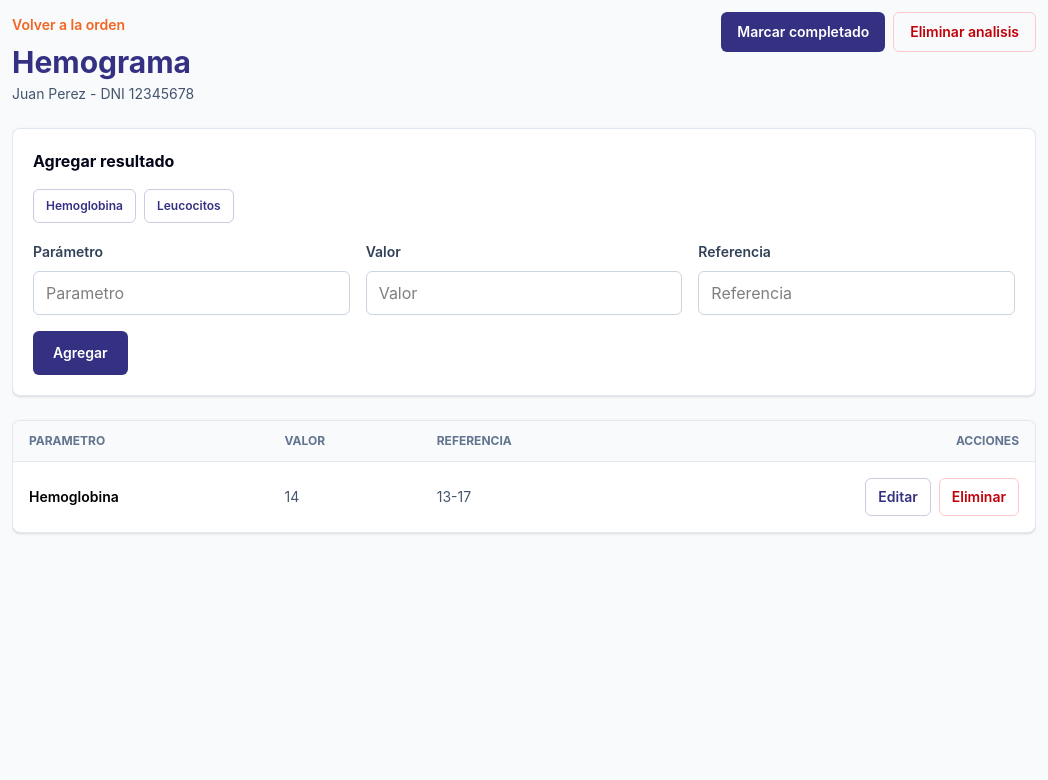
it: AdminAnalysisDetail › cancels editing and resets the form
Expected: the heading "Hemograma" is shown, [12,44,194,80]
Step 1. Click the button "Editar" → (898, 497), box [865,478,931,516]
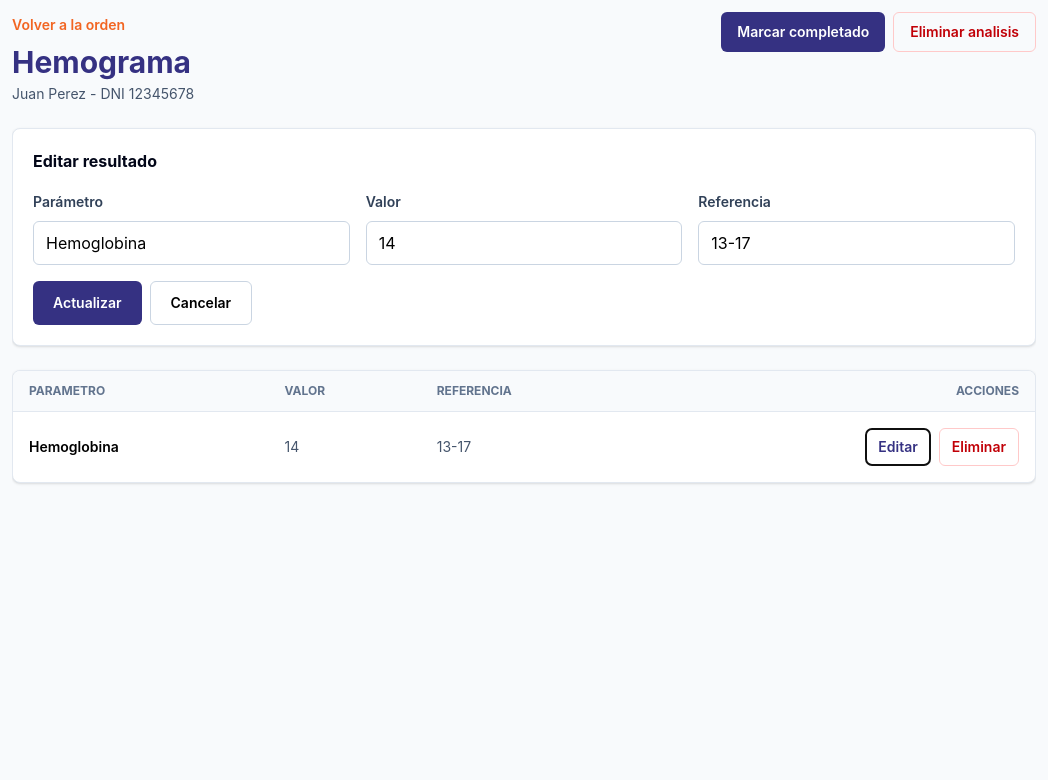
Result: the field with placeholder "Parametro" holds "Hemoglobina" at [33,221,350,265]
Step 2. Click the button "Cancelar" → (201, 303), box [150,281,252,325]
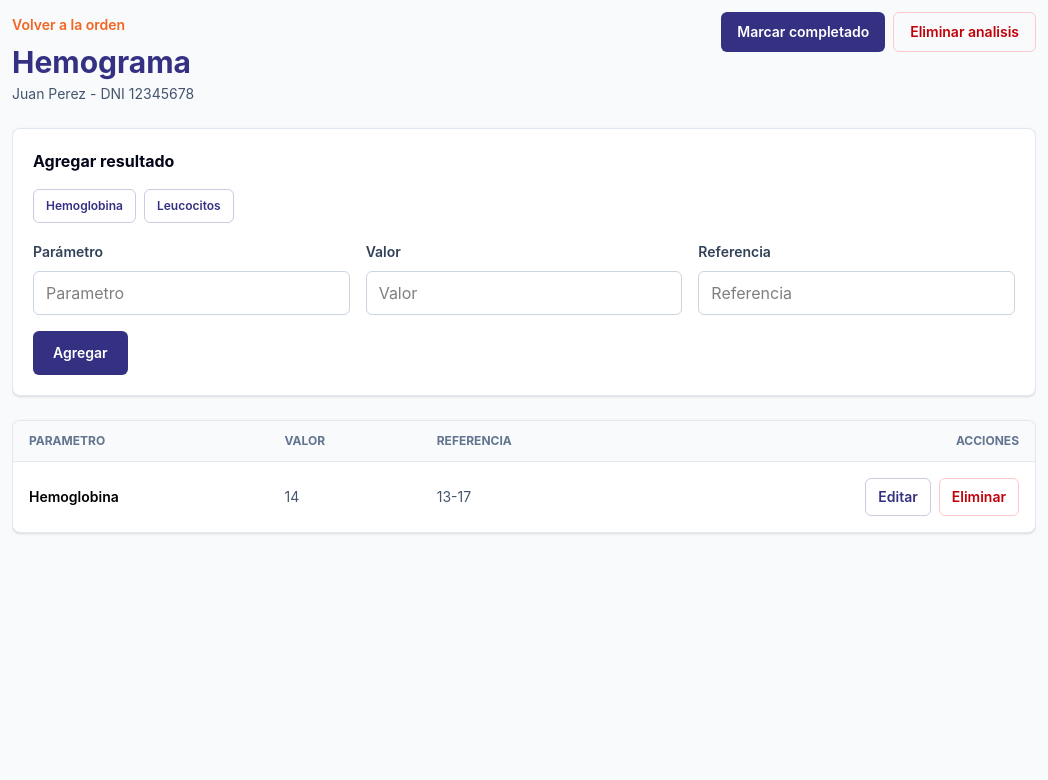
Result: the field with placeholder "Parametro" is empty at [33,271,350,315]
Result: the button "Cancelar" is gone
